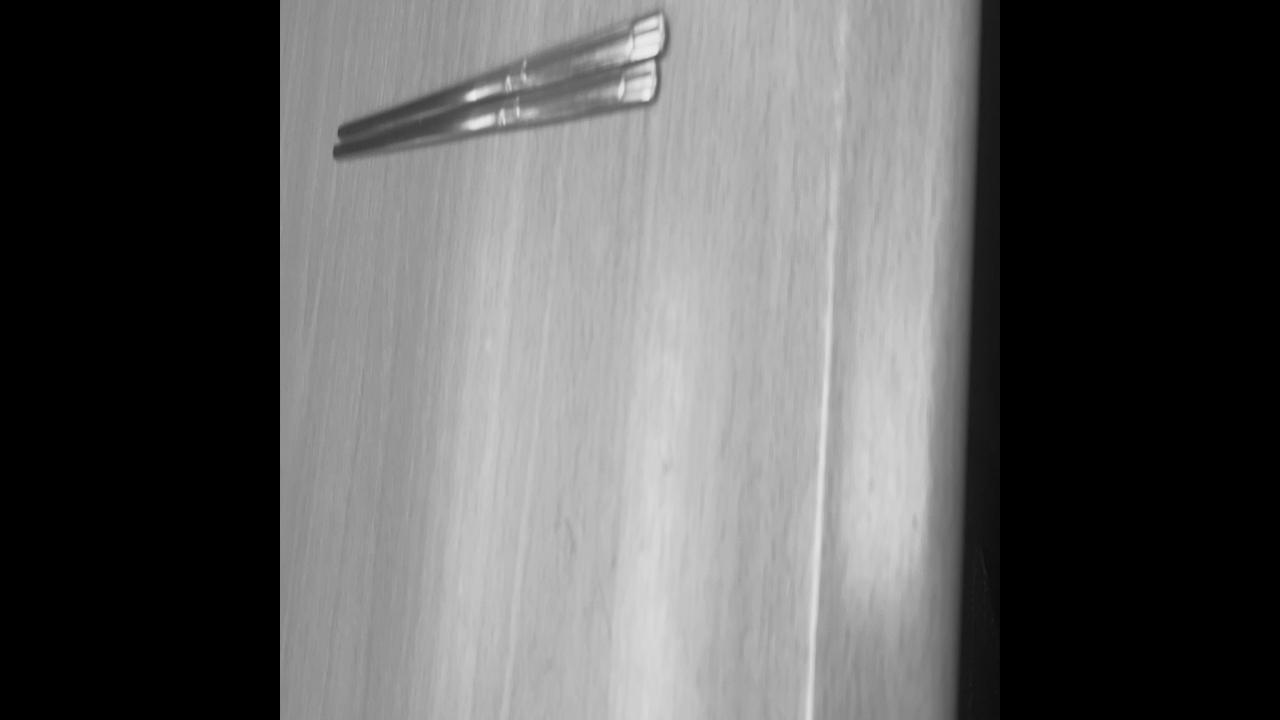chopstick: (335, 18, 663, 158)
